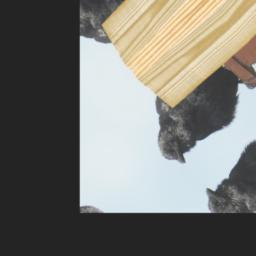Crow: (132, 42, 256, 176)
